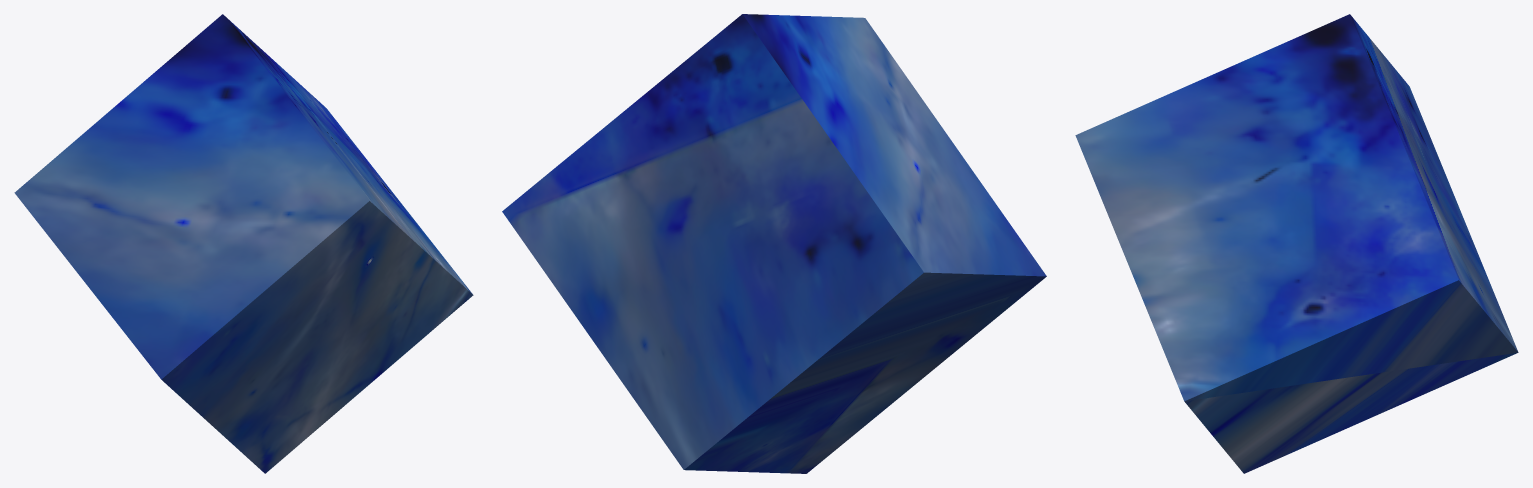
File: BlueBlocks_14.gltf
The picture shows the model from 3 angles, left to right: view 1: azimuth 30°, elevation 25°; view 2: azimuth 150°, elevation 25°; view 3: azimuth 270°, elevation 25°; orthographic projection. The views are drawn at different scales.
Parts seen in each view (by area): view 1: BlueBlocks_14; view 2: BlueBlocks_14; view 3: BlueBlocks_14.
Part boxes in pixels (x1,y1,x2,y2): BlueBlocks_14: (14, 14, 473, 473); BlueBlocks_14: (502, 14, 1046, 473); BlueBlocks_14: (1075, 14, 1518, 473).
Size of the model in its own units: 3.27 by 3.72 by 3.22.
1 material, 1 textured.
